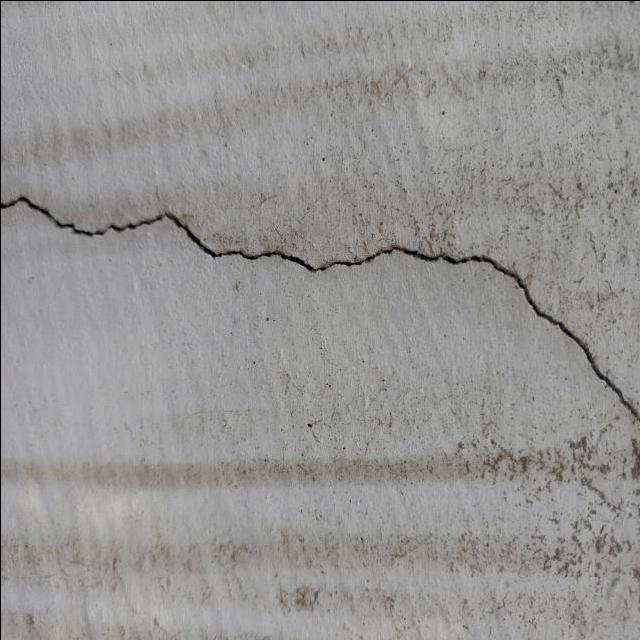SurfaceCrack: (0, 153, 639, 319)
